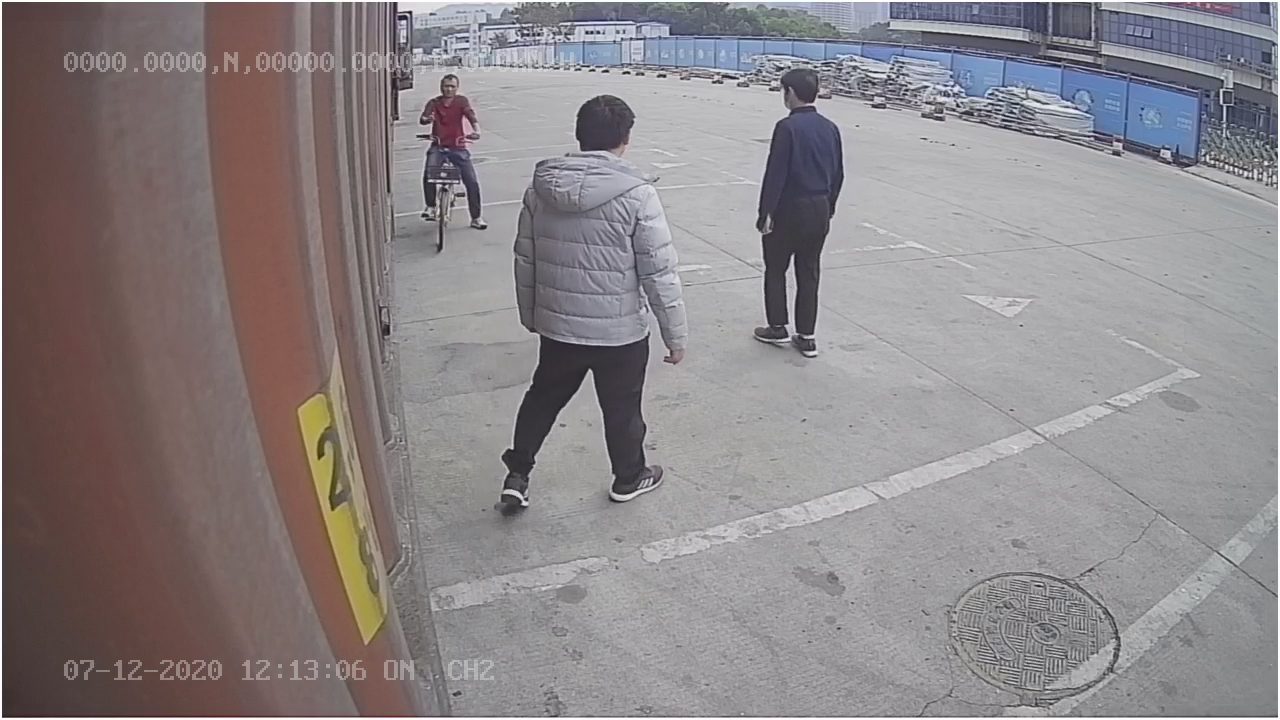person: (747, 67, 843, 358)
